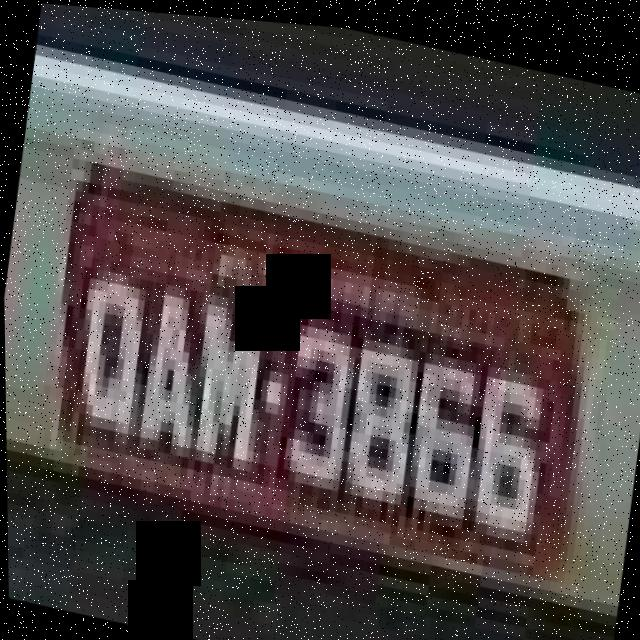3: (268, 284, 369, 515)
6: (460, 346, 561, 557), (400, 328, 495, 545)
8: (335, 312, 433, 531)
A: (124, 255, 220, 468)
M: (178, 275, 273, 488)
Q: (67, 258, 159, 461)
